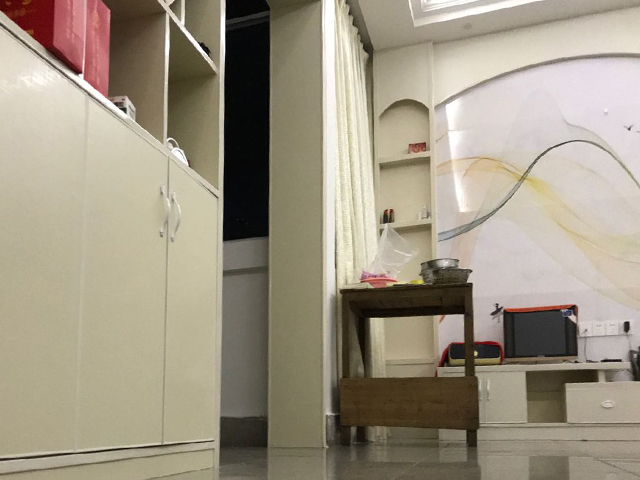cabinet: (1, 1, 225, 479), (435, 360, 640, 442)
table: (337, 281, 480, 448)
